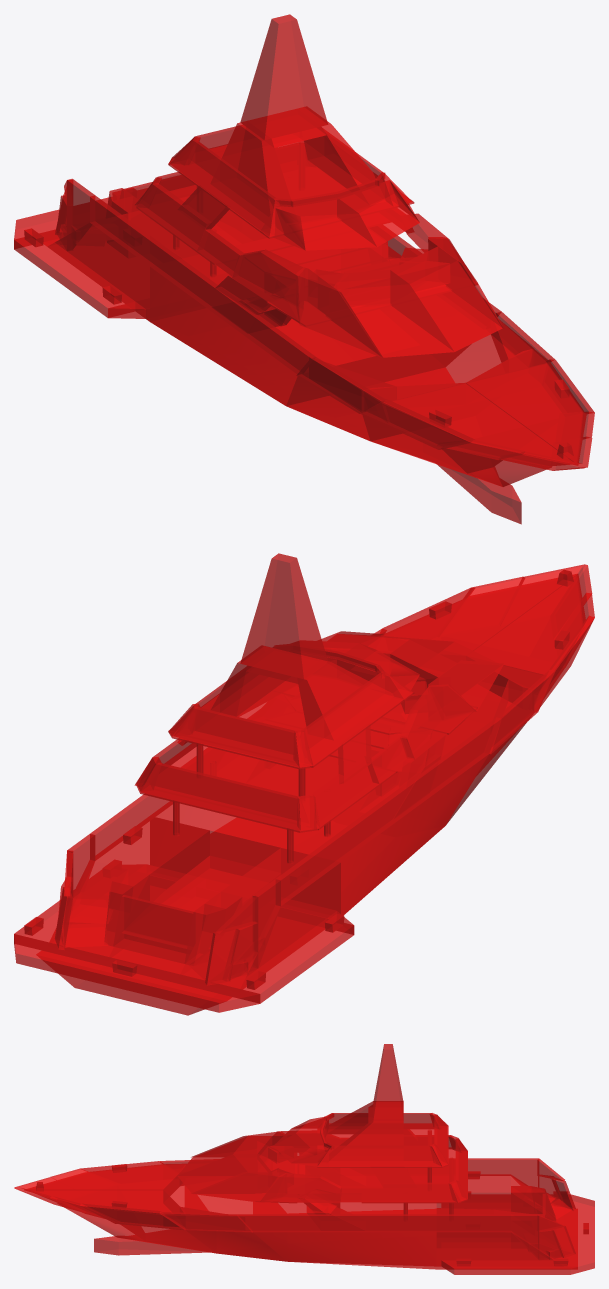
The model's file is SM_Veh_Super_Yacht_01_Collision.fbx.
3 views of the same model, one above another, from view 1: azimuth 30°, elevation 25°; view 2: azimuth 150°, elevation 25°; view 3: azimuth 270°, elevation 25° (orthographic). The views are drawn at different scales.
Visible parts, largest first — view 1: SM_Veh_Super_Yacht_01_Collision; view 2: SM_Veh_Super_Yacht_01_Collision; view 3: SM_Veh_Super_Yacht_01_Collision.
Part boxes in pixels (x1,y1,x2,y2): SM_Veh_Super_Yacht_01_Collision: [14, 14, 594, 524]; SM_Veh_Super_Yacht_01_Collision: [14, 553, 594, 1015]; SM_Veh_Super_Yacht_01_Collision: [14, 1044, 594, 1274].
Size of the model in its own units: 1225 by 1576 by 4038.
